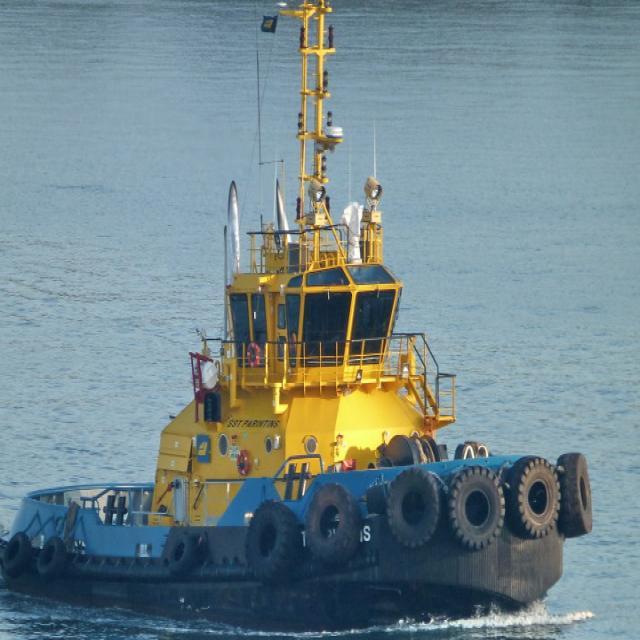tugboat: (1, 1, 600, 640)
